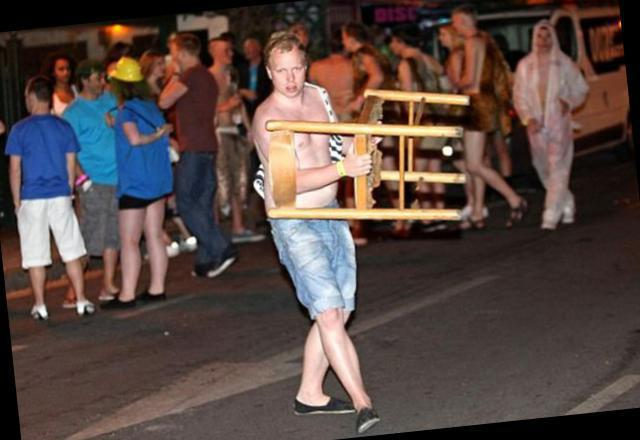Drunk: (272, 51, 305, 97)
